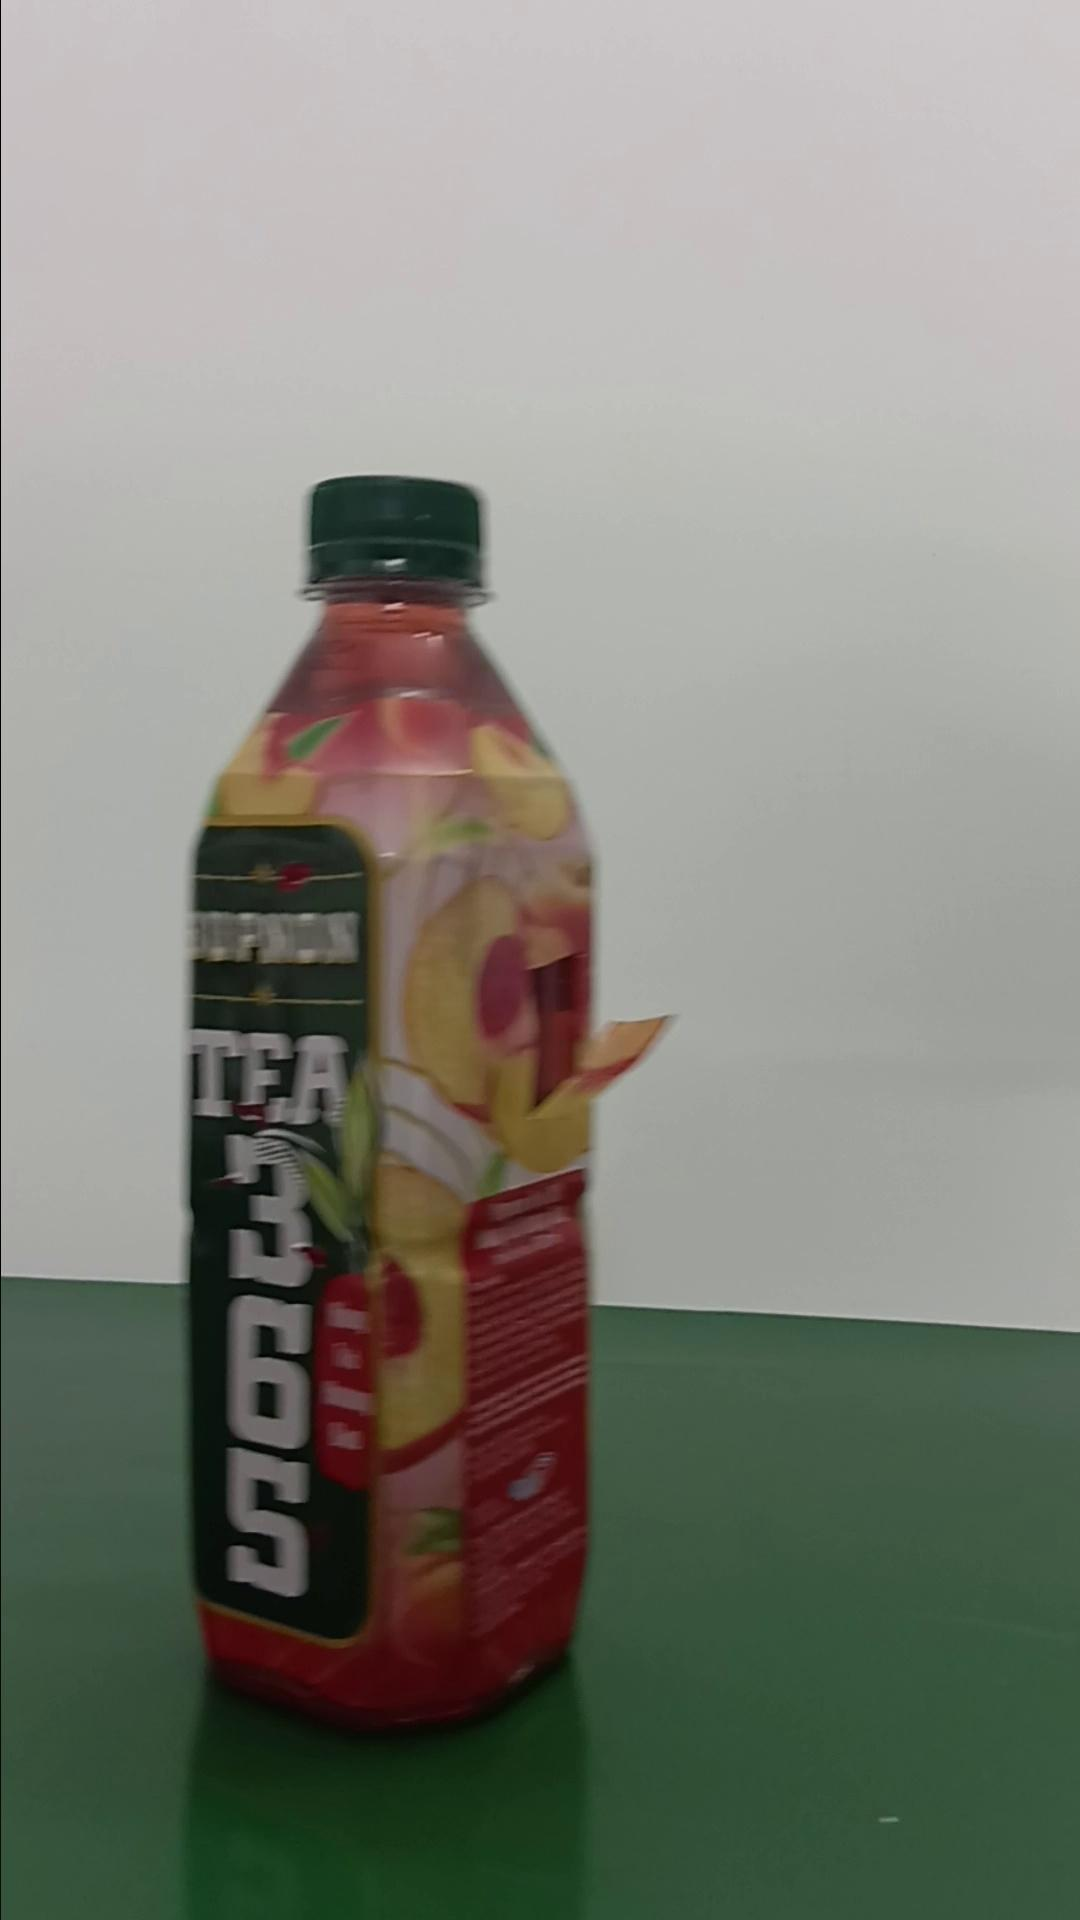loi rach va lap chai: (186, 469, 617, 1750)
